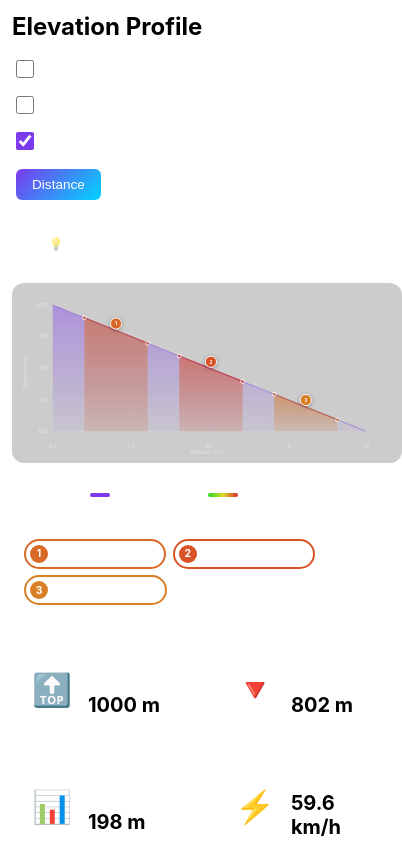
Test: ProfileView › Zoom Functionality › should reset zoom when reset button clicked
Press the mouse on the icon that starts with "Elevation" at (207, 373), box x1=20 y1=291 x2=394 y2=455
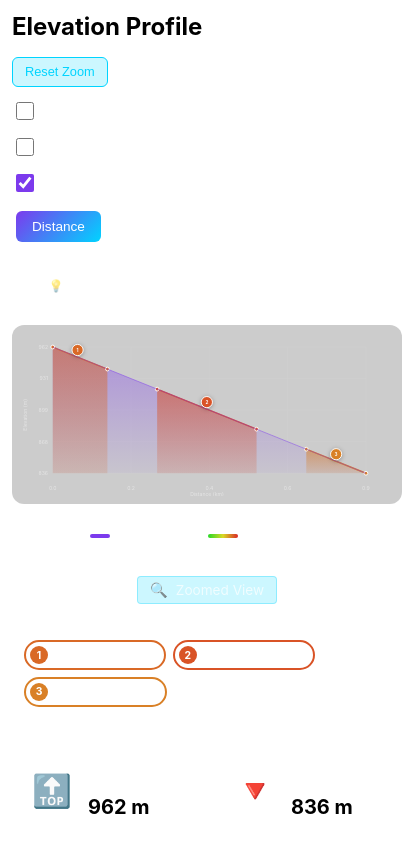
Click the button "Reset Zoom" at (60, 72), box x1=12 y1=57 x2=108 y2=87
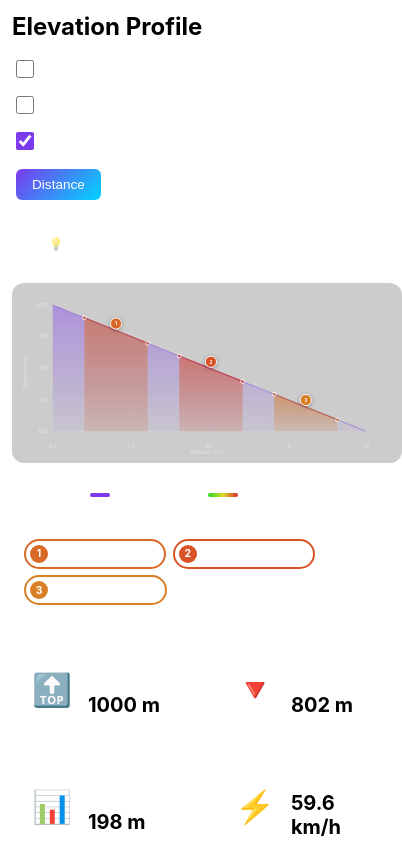
Check: the button "Reset Zoom" is gone
